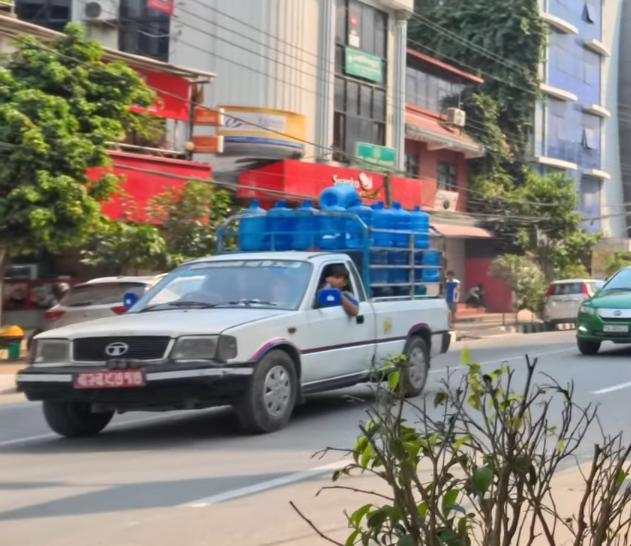car: (553, 256, 631, 355)
transport_vehicle: (14, 183, 451, 446)
